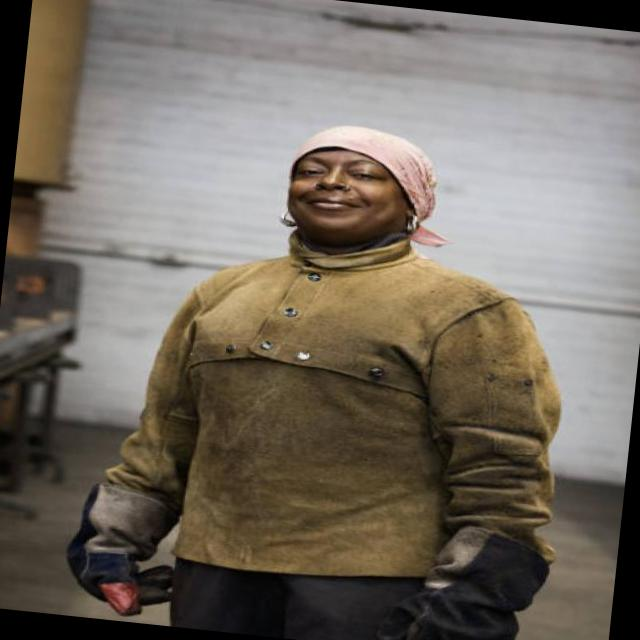Gloves: (366, 513, 555, 640), (53, 475, 184, 622)
